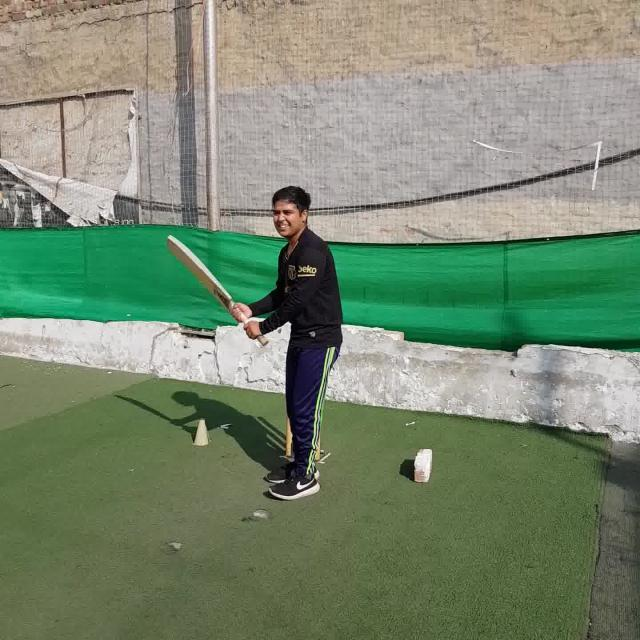bat: (167, 234, 268, 345)
